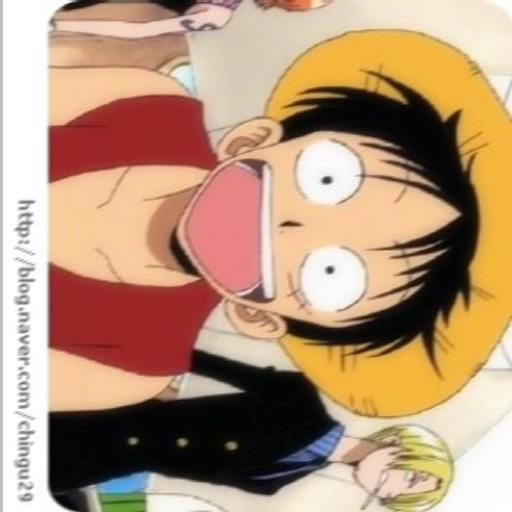Luffy: (179, 28, 512, 396)
sanji: (340, 414, 458, 511)
